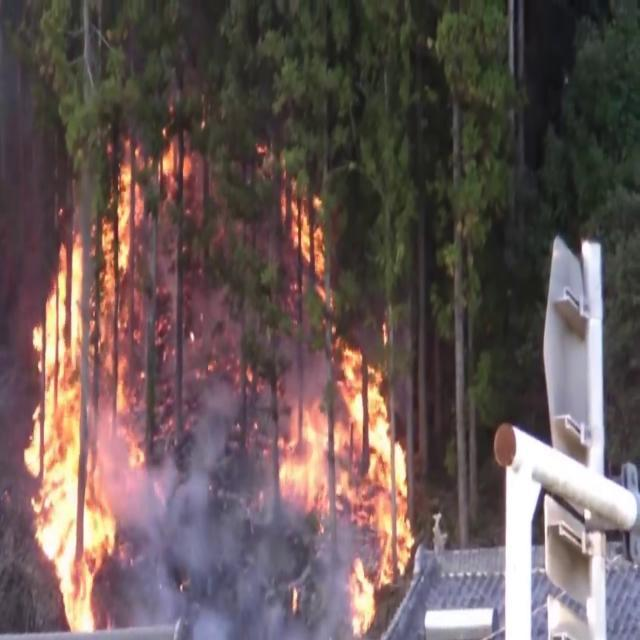Fire: (14, 143, 170, 630), (256, 220, 418, 621)
Smoke: (116, 375, 324, 631)
